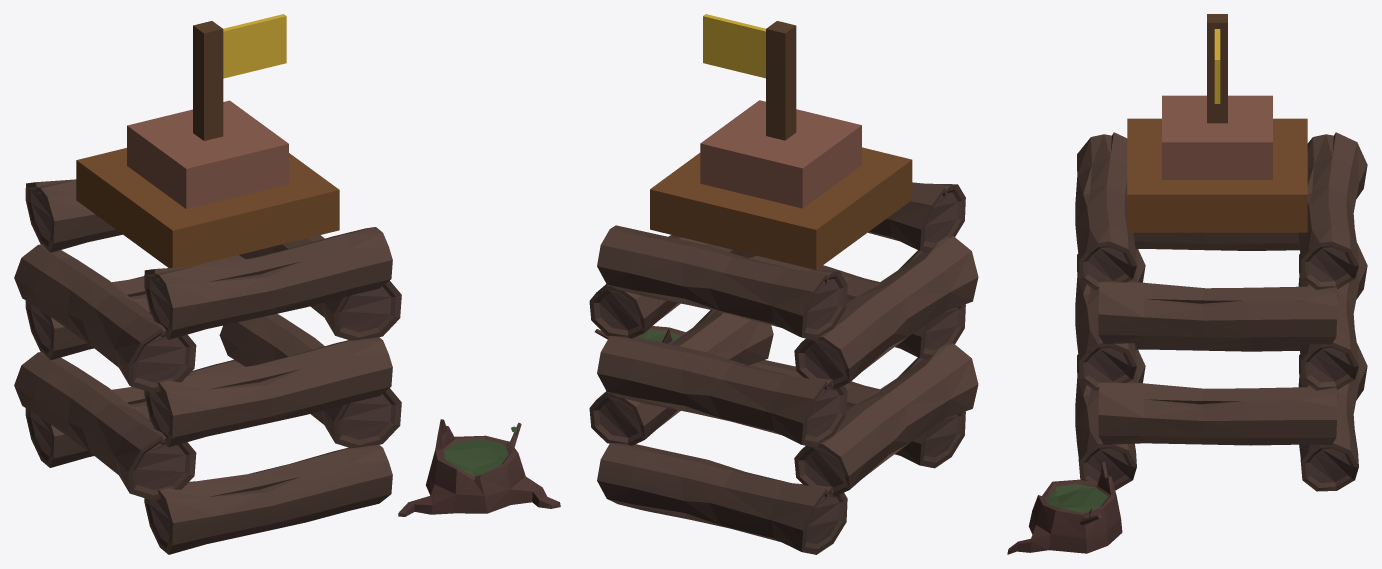
Rendered from beaver-lodge.glb.
3 renders of one model, left to right at view 1: azimuth 30°, elevation 25°; view 2: azimuth 150°, elevation 25°; view 3: azimuth 270°, elevation 25°, orthographic. The views are drawn at different scales.
Visible parts, largest first — view 1: beaver-lodge_body; view 2: beaver-lodge_body; view 3: beaver-lodge_body.
Boxes of the visible parts, <box> form: beaver-lodge_body: <box>14,14,560,554</box>; beaver-lodge_body: <box>589,14,978,554</box>; beaver-lodge_body: <box>1007,14,1367,554</box>.
Bounding box in the file's own units: 6.06 × 6.8 × 5.19.
